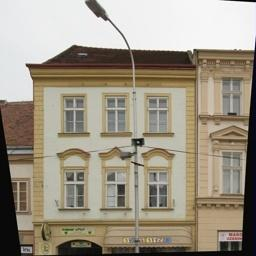building: (28, 38, 194, 256)
